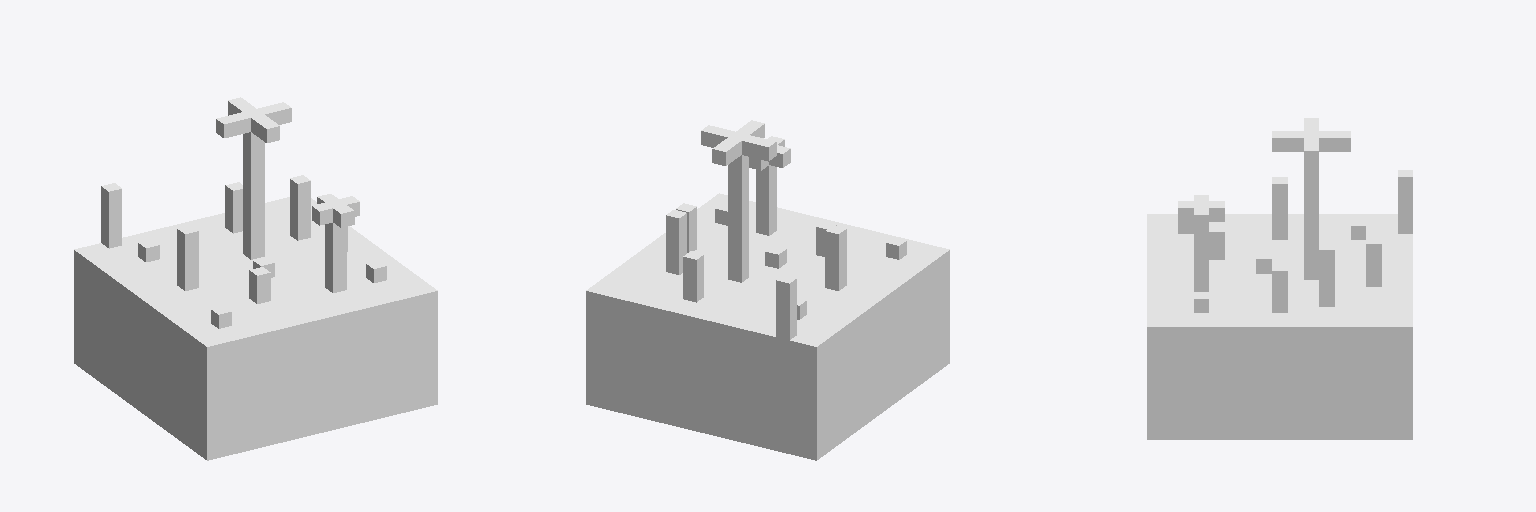
File: Tile7.obj
The picture shows the model from 3 angles: view 1: azimuth 30°, elevation 25°; view 2: azimuth 150°, elevation 25°; view 3: azimuth 270°, elevation 25°; orthographic projection.
Parts seen in each view (by area): view 1: Tile7; view 2: Tile7; view 3: Tile7.
Part boxes in pixels (left/top/right/bottom): Tile7: left=74, top=97, right=437, bottom=460; Tile7: left=586, top=120, right=949, bottom=460; Tile7: left=1147, top=118, right=1412, bottom=439.
Size of the model in its own units: 17 by 18 by 17.